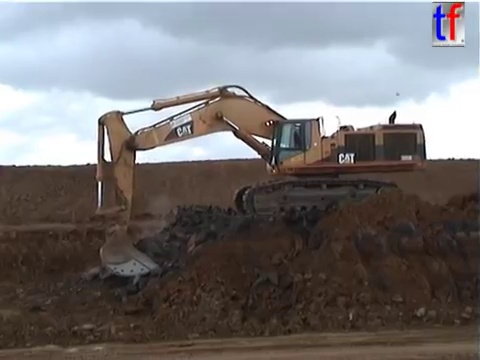excavator: (91, 81, 429, 280)
